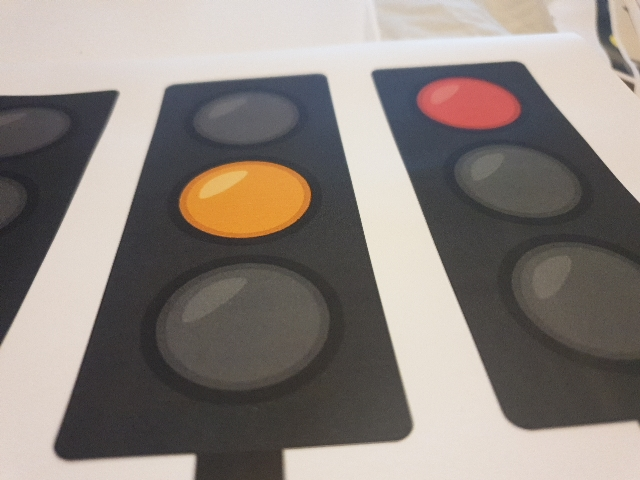amber: (171, 87, 334, 411)
red: (416, 80, 582, 363)
